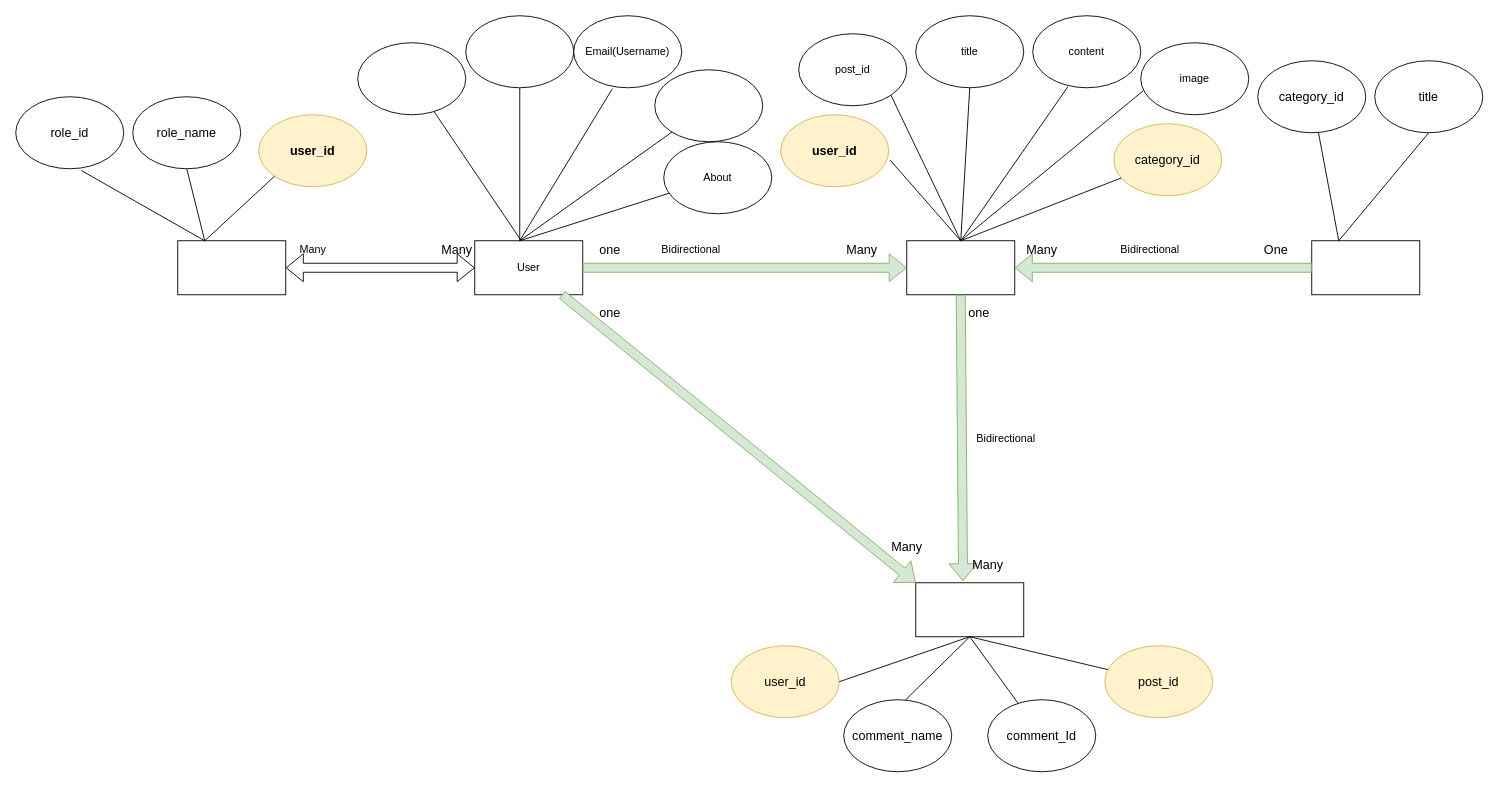
The diagram is 1499 pixels wide and 788 high, and some of its shapes have lost their labels. The shapes that lost their labels are listed below. From the top down, each one's centre as x and y in pixels, then its label:
At [519,51]: "Name".
At [411,78]: "Id".
At [708,105]: "Password".
At [231,267]: "Role".
At [960,267]: "Post".
At [1365,267]: "Category".
At [969,609]: "Comment".
